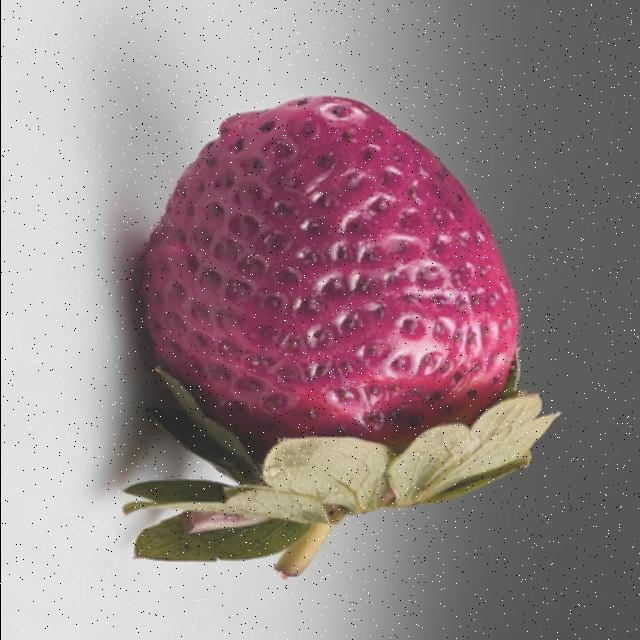strawberry: (126, 98, 555, 576)
